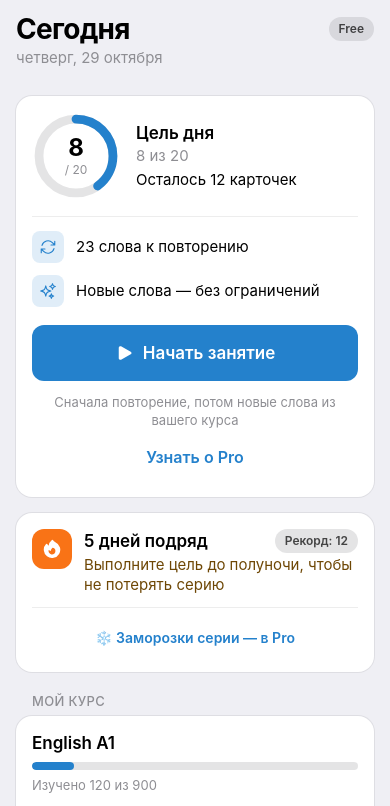
Test: TodayView › session card › stays on the screen and explains a failed open
Click the button with test id "review-btn".
click(195, 353)  # box [32,325,358,381]
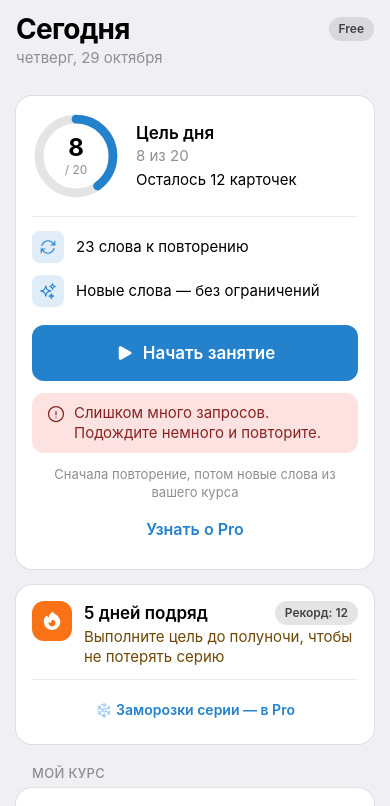
Now the text "Слишком много запросов. Подождите немного и повторите." is shown, box [74,403,344,443]
